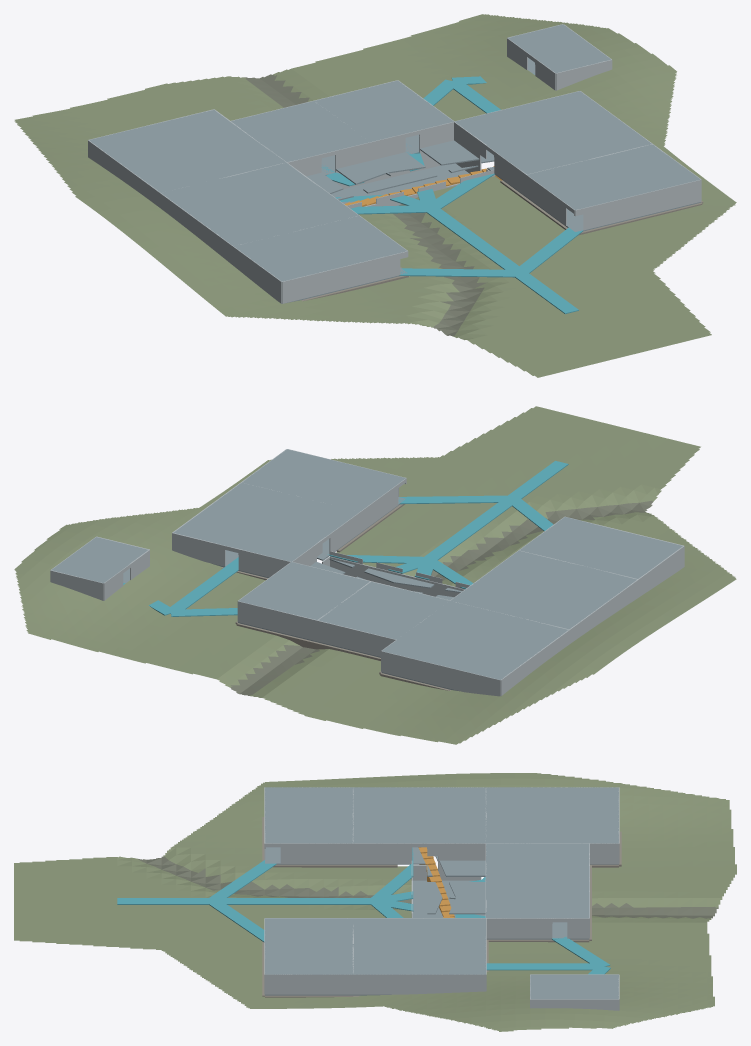
The model's file is open-circulation.glb.
The picture shows the model from 3 angles, top to bottom: view 1: azimuth 30°, elevation 25°; view 2: azimuth 150°, elevation 25°; view 3: azimuth 270°, elevation 25°; orthographic projection. The views are drawn at different scales.
Visible parts, largest first — view 1: Saved editor macroterrain WLD-08, Ceiling cap lab, Ceiling cap dorm, Ceiling cap generator, Ceiling cap store, Ceiling cap mess, Ceiling cap radio, Ceiling cap records, Flat route shell Wall store S, Flat route shell Wall mess S, Ceiling cap shelter, Wall lab W (+18 smaller); view 2: Saved editor macroterrain WLD-08, Ceiling cap generator, Ceiling cap dorm, Ceiling cap lab, Ceiling cap mess, Ceiling cap store, Ceiling cap records, Ceiling cap radio, Wall generator N, Ceiling cap shelter, Flat route shell Wall tunnel S, Wall records N (+14 smaller); view 3: Saved editor macroterrain WLD-08, Ceiling cap lab, Ceiling cap generator, Ceiling cap dorm, Ceiling cap store, Ceiling cap mess, Ceiling cap radio, Ceiling cap records, Wall dorm E, Ceiling cap shelter, Wall mess E, Wall store E (+18 smaller).
Part boxes in pixels (box(x1,y1,x2,y2)): Saved editor macroterrain WLD-08: box(14, 14, 736, 377); Ceiling cap lab: box(161, 162, 358, 246); Ceiling cap dorm: box(454, 91, 651, 174); Ceiling cap generator: box(89, 109, 285, 192); Ceiling cap store: box(234, 216, 407, 281); Ceiling cap mess: box(527, 144, 700, 210); Ceiling cap radio: box(231, 101, 370, 162); Ceiling cap records: box(315, 80, 453, 141); Flat route shell Wall store S: box(282, 251, 407, 303); Flat route shell Wall mess S: box(575, 179, 701, 230); Ceiling cap shelter: box(508, 24, 610, 73); Wall lab W: box(160, 193, 233, 264); Saved editor macroterrain WLD-08: box(14, 406, 736, 744); Ceiling cap generator: box(382, 601, 568, 679); Ceiling cap dorm: box(173, 483, 359, 561); Ceiling cap lab: box(450, 550, 636, 629); Ceiling cap mess: box(242, 449, 405, 511); Ceiling cap store: box(519, 517, 682, 578); Ceiling cap records: box(238, 562, 369, 619); Ceiling cap radio: box(318, 581, 449, 639); Wall generator N: box(381, 651, 500, 696); Ceiling cap shelter: box(51, 537, 148, 583); Flat route shell Wall tunnel S: box(330, 551, 470, 597); Wall records N: box(237, 601, 317, 641); Saved editor macroterrain WLD-08: box(14, 773, 736, 1031); Ceiling cap lab: box(353, 787, 485, 843); Ceiling cap generator: box(486, 787, 618, 843); Ceiling cap dorm: box(353, 918, 485, 974); Ceiling cap store: box(265, 787, 353, 843); Ceiling cap mess: box(265, 918, 353, 974); Ceiling cap radio: box(486, 843, 589, 880); Ceiling cap records: box(486, 881, 589, 918); Wall dorm E: box(353, 974, 485, 994); Ceiling cap shelter: box(530, 974, 618, 999); Wall mess E: box(265, 974, 353, 994); Wall store E: box(280, 843, 353, 863).
Size of the model in its own units: 83 by 5.66 by 98.
